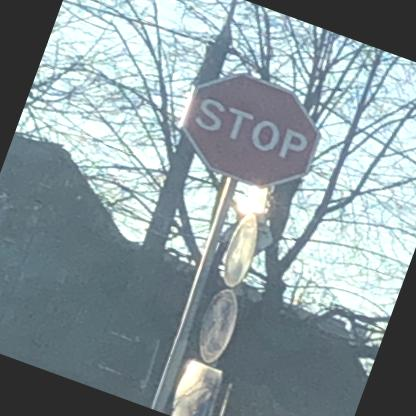stop: (168, 58, 332, 202)
